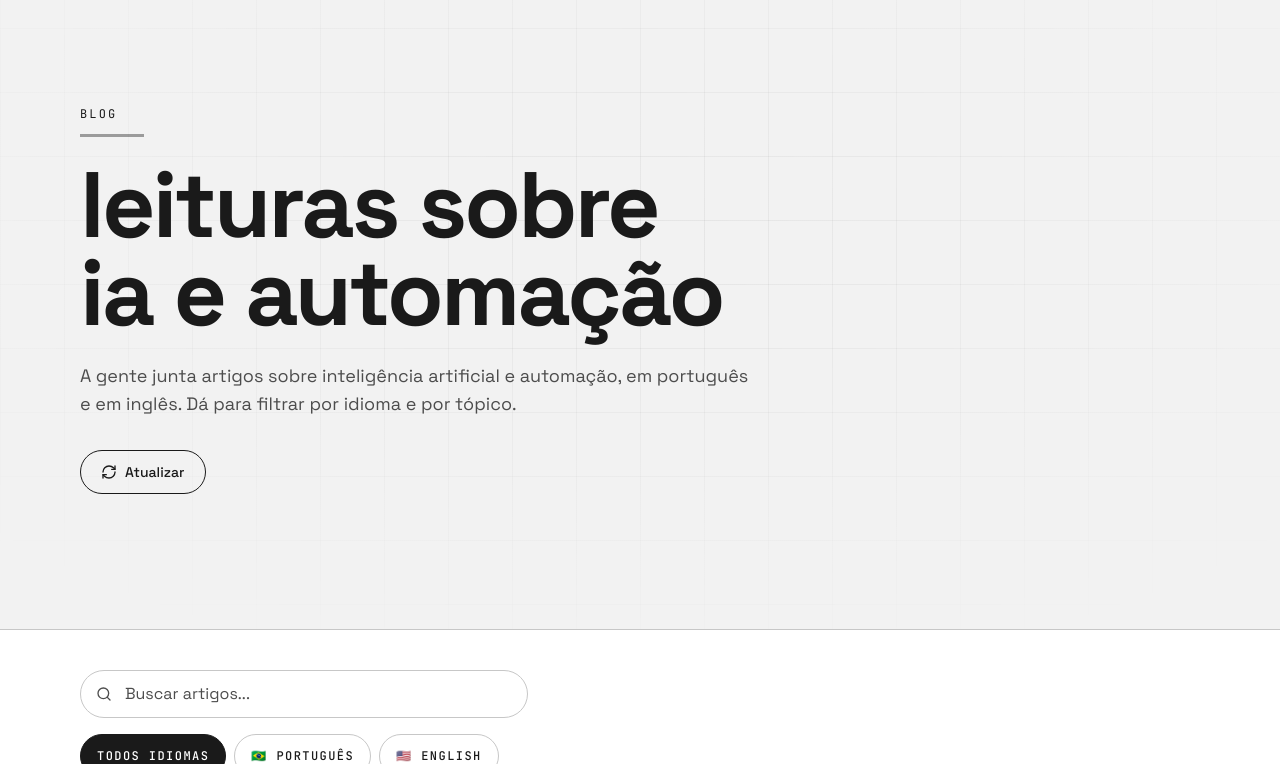
BlogPage filters › filters by topic and clears the search with its own button
Type "English" into the field labelled "Buscar artigos" at (304, 694), box x1=80 y1=670 x2=528 y2=718
(page scrolled)
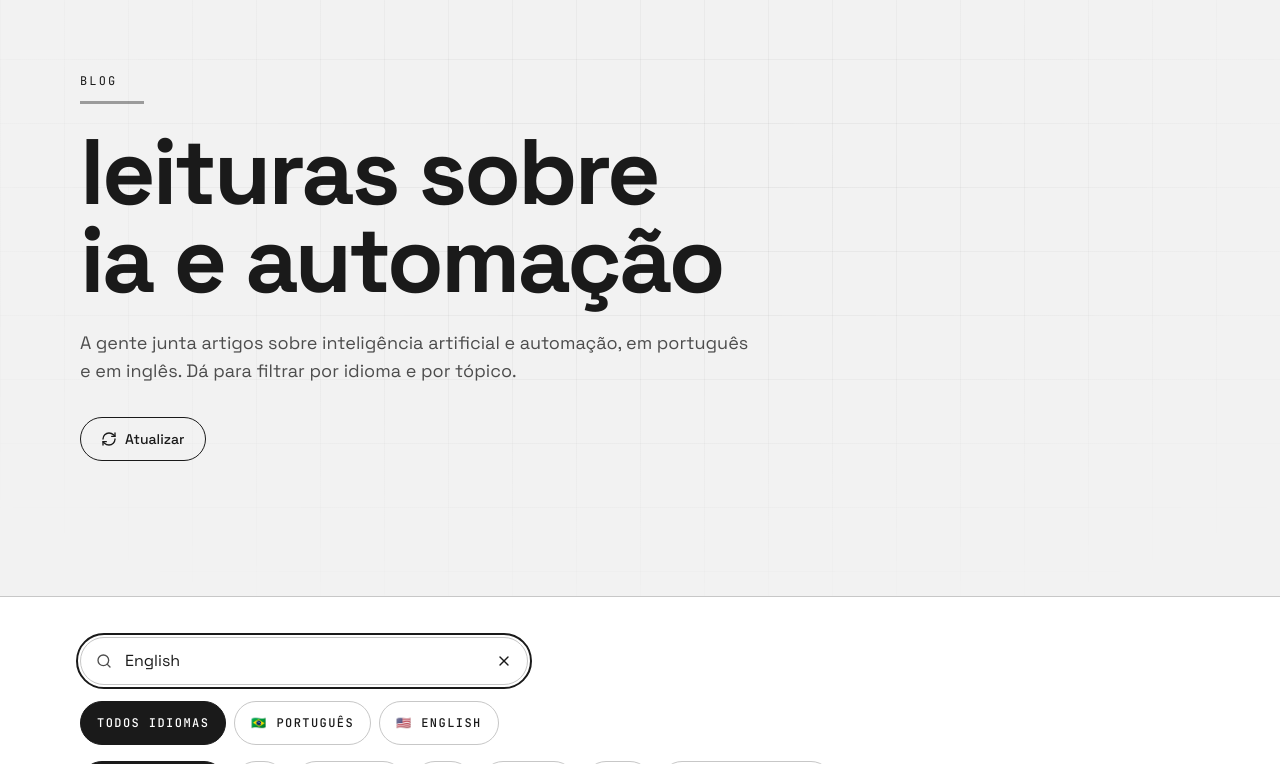
Click the button named "Limpar busca" at (504, 661), box x1=482 y1=639 x2=526 y2=683
(page scrolled)
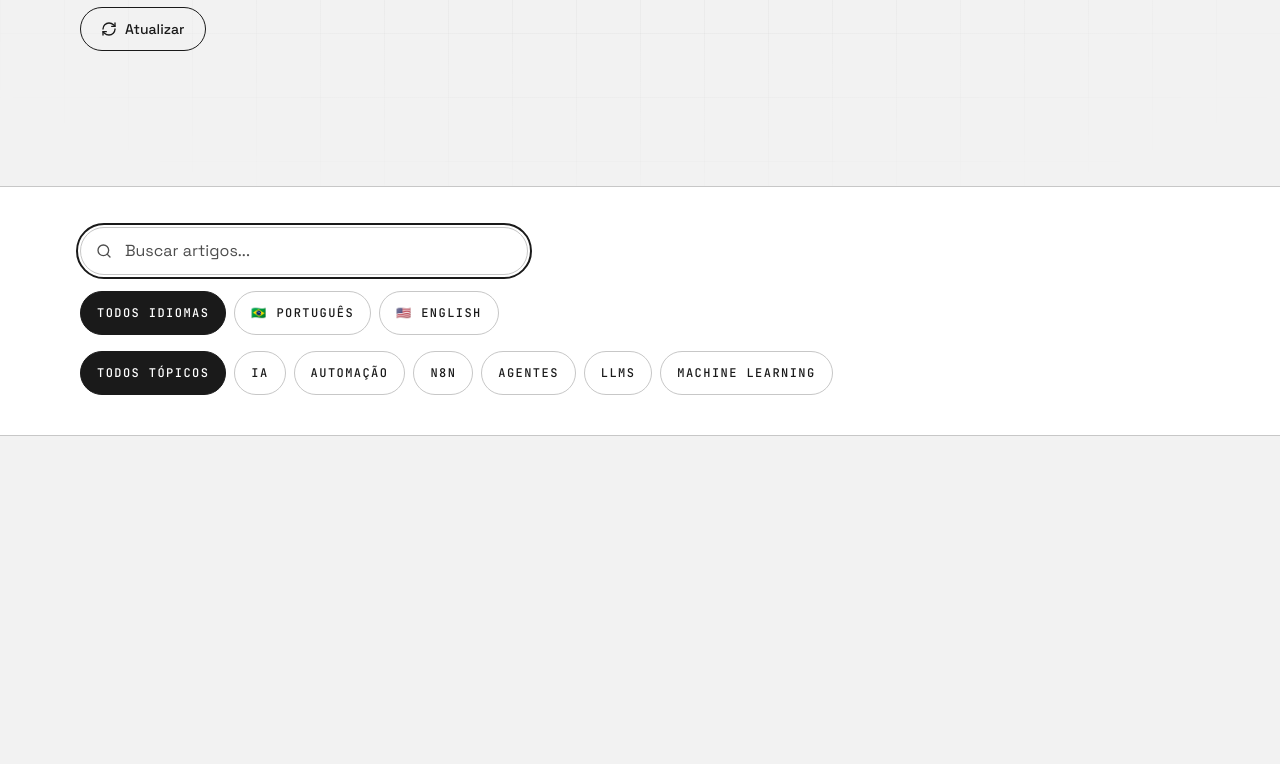
Expected: the field labelled "Buscar artigos" is empty, x1=80 y1=227 x2=528 y2=275
Click the button "N8N" at (443, 373), box x1=413 y1=351 x2=473 y2=395
(page scrolled)
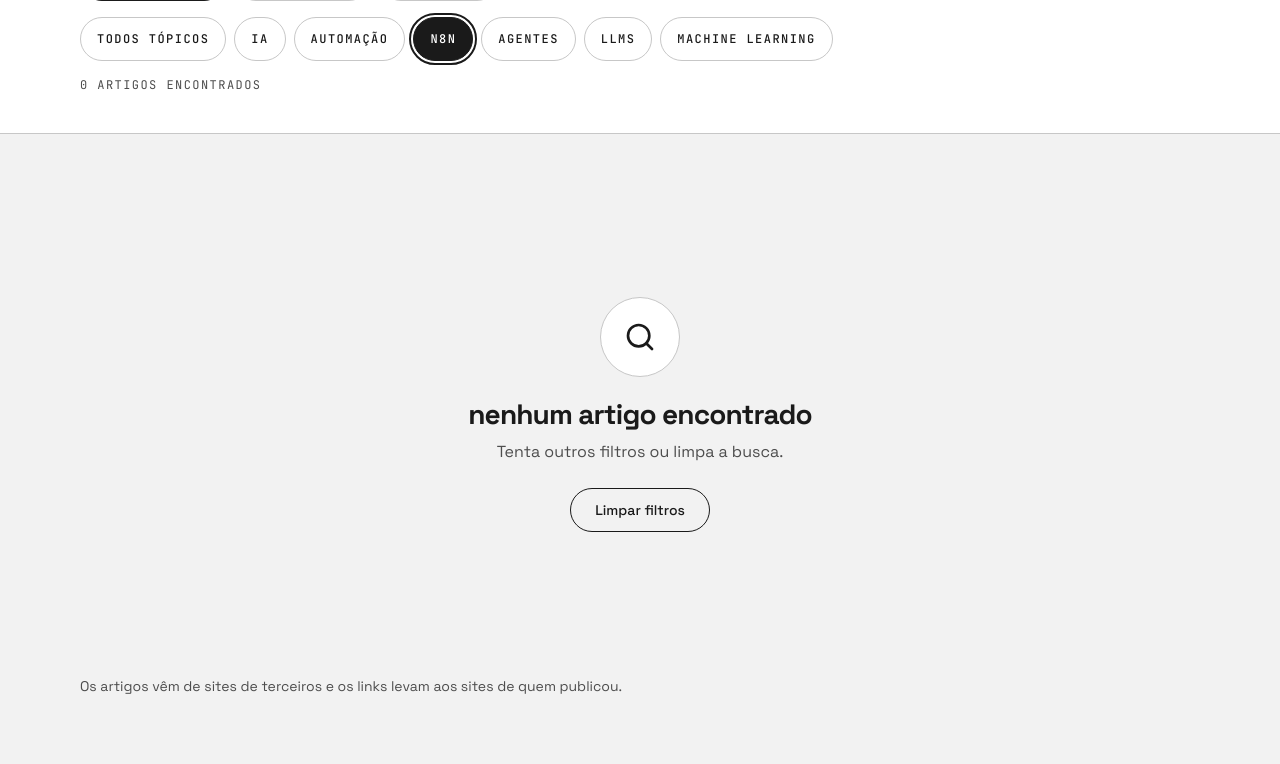
Expected: the text "Tenta outros filtros ou limpa a busca." is shown, x1=497 y1=440 x2=783 y2=464
